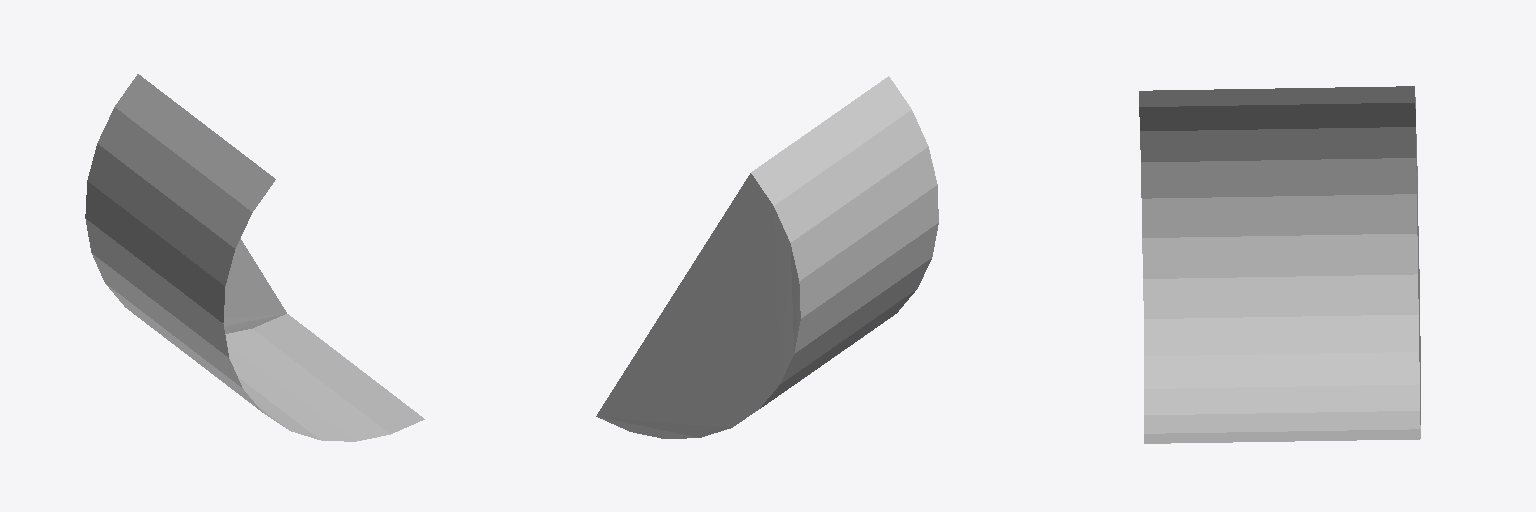
File: original-200.obj
3 views of the same model, side by side, from view 1: azimuth 30°, elevation 25°; view 2: azimuth 150°, elevation 25°; view 3: azimuth 270°, elevation 25° (orthographic).
Parts seen in each view (by area): view 1: Group9/mesh100/mesh100-geometry/material_1/component_8#mesh100-g; view 2: Group9/mesh100/mesh100-geometry/material_1/component_8#mesh100-g; view 3: Group9/mesh100/mesh100-geometry/material_1/component_8#mesh100-g.
Boxes of the visible parts, x1=… form: Group9/mesh100/mesh100-geometry/material_1/component_8#mesh100-g: x1=85, y1=74, x2=424, y2=441; Group9/mesh100/mesh100-geometry/material_1/component_8#mesh100-g: x1=596, y1=76, x2=938, y2=438; Group9/mesh100/mesh100-geometry/material_1/component_8#mesh100-g: x1=1139, y1=86, x2=1420, y2=443.
Bounding box in the file's own units: 0.0278 × 0.0379 × 0.0334.